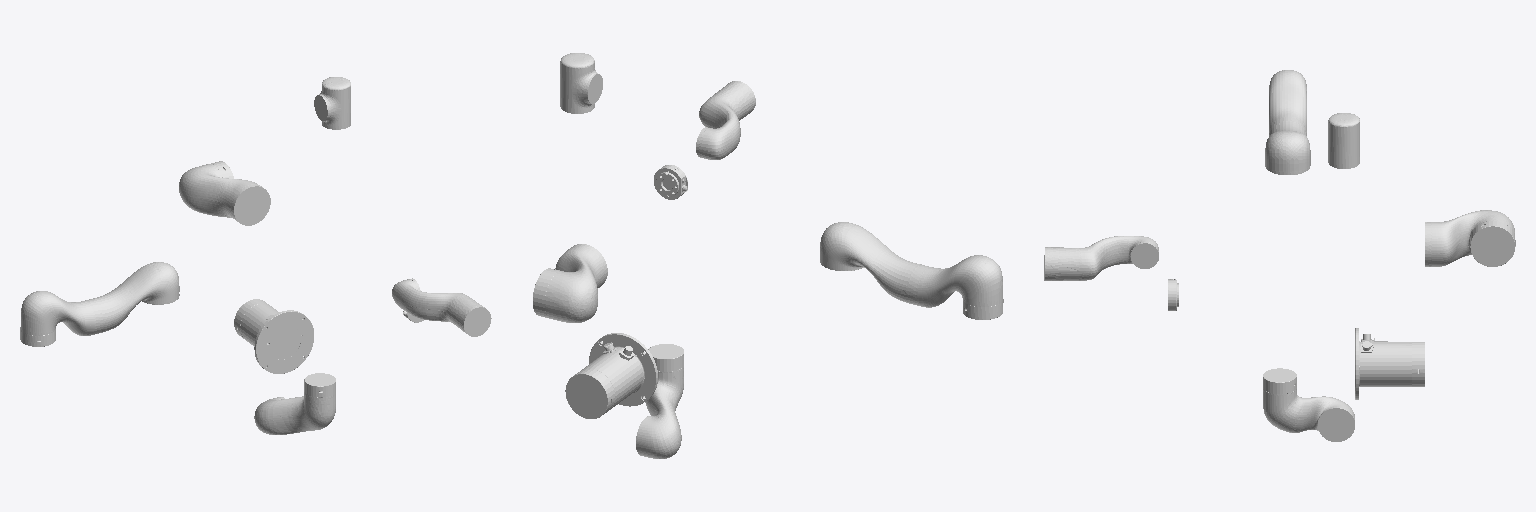
robot.urdf — uf850:
<robot name="uf850">
  <link name="base_link">
    <visual>
      <origin xyz="0 0 0" rpy="0 0 0"/>
      <geometry>
        <mesh filename="meshes/link_base.stl" scale="1.0 1.0 1.0"/>
      </geometry>
      <material name="LightGrey">
        <color rgba="0.9 0.9 0.9 1.0"/>
      </material>
    </visual>
    <inertial>
      <mass value="4.0"/>
      <origin rpy="0 0 0" xyz="0.0 0.0 0.0"/>
      <inertia ixx="0.00443333156" ixy="0.0" ixz="0.0" iyy="0.00443333156" iyz="0.0" izz="0.0072"/>
    </inertial>
  </link>

  <link name="link1">
    <visual>
      <origin xyz="0 0 0.2" rpy="0 0 0"/>
      <geometry>
        <mesh filename="meshes/link1.stl" scale="1.0 1.0 1.0"/>
      </geometry>
      <material name="LightGrey">
        <color rgba="0.9 0.9 0.9 1.0"/>
      </material>
    </visual>
    <inertial>
      <mass value="3.7"/>
      <origin rpy="0 0 0" xyz="0.0 0.0 0.0"/>
      <inertia ixx="0.010267495893" ixy="0.0" ixz="0.0" iyy="0.010267495893" iyz="0.0" izz="0.00666"/>
    </inertial>
  </link>

  <joint name="base_to_link1" type="revolute">
    <axis xyz="0 0 1"/>
    <parent link="base_link"/>
    <child link="link1"/>
    <origin xyz="0 0 0.15" rpy="0 0 0"/>
    <limit effort="150.0" lower="-6.28318530718" upper="6.28318530718" velocity="3.15"/>
    <dynamics damping="0.0" friction="0.0"/>
  </joint>

  <link name="link2">
    <visual>
      <origin xyz="0 0 0" rpy="0 -1.57 1.57"/>
      <geometry>
        <mesh filename="meshes/link2.stl" scale="1.0 1.0 1.0"/>
      </geometry>
      <material name="LightGrey">
        <color rgba="0.9 0.9 0.9 1.0"/>
      </material>
    </visual>
    <inertial>
      <mass value="8.393"/>
      <origin rpy="0 0 0" xyz="0.0 0.0 0.28"/>
      <inertia ixx="0.22689067591" ixy="0.0" ixz="0.0" iyy="0.22689067591" iyz="0.0" izz="0.0151074"/>
    </inertial>
  </link>

  <joint name="link1_to_link2" type="revolute">
    <parent link="link1"/>
    <child link="link2"/>
    <origin xyz="0 0 0.2" rpy="0 0 0"/>
    <axis xyz="0 1 0"/>
    <limit effort="150.0" lower="-6.28318530718" upper="6.28318530718" velocity="3.15"/>
    <dynamics damping="0.0" friction="0.0"/>
  </joint>

  <link name="link3">
    <visual>
      <origin xyz="0 0 0" rpy="0 0 -1.57"/>
      <geometry>
        <mesh filename="meshes/link3.stl" scale="1.0 1.0 1.0"/>
      </geometry>
      <material name="LightGrey">
        <color rgba="0.9 0.9 0.9 1.0"/>
      </material>
    </visual>
    <inertial>
      <mass value="2.275"/>
      <origin rpy="0 0 0" xyz="0.0 0.0 0.25"/>
      <inertia ixx="0.049443313556" ixy="0.0" ixz="0.0" iyy="0.049443313556" iyz="0.0" izz="0.004095"/>
    </inertial>
  </link>

  <joint name="link2_to_link3" type="revolute">
    <axis xyz="0 0 1"/>
    <parent link="link2"/>
    <child link="link3"/>
    <origin xyz="0 0 0.39" rpy="1.57 1.57 3.14"/>
    <limit effort="150.0" lower="-3.14159265359" upper="3.14159265359" velocity="3.15"/>
    <dynamics damping="0.0" friction="0.0"/>
  </joint>

  <link name="link4">
    <visual>
      <origin xyz="0.3 0 0" rpy="1.57 -1.57 1.57"/>
      <geometry>
        <mesh filename="meshes/link4.stl" scale="1.0 1.0 1.0"/>
      </geometry>
      <material name="LightGrey">
        <color rgba="0.9 0.9 0.9 1.0"/>
      </material>
    </visual>
    <inertial>
      <mass value="1.219"/>
      <origin rpy="0 0 0" xyz="0.0 0.0 0.0"/>
      <inertia ixx="0.111172755531" ixy="0.0" ixz="0.0" iyy="0.111172755531" iyz="0.0" izz="0.21942"/>
    </inertial>
  </link>

  <joint name="link3_to_link4" type="revolute">
    <axis xyz="1 0 0"/>
    <parent link="link3"/>
    <child link="link4"/>
    <origin xyz="0.1 -0.15 0" rpy="1.57 0 0"/>
    <limit effort="28.0" lower="-6.28318530718" upper="6.28318530718" velocity="3.2"/>
    <dynamics damping="0.0" friction="0.0"/>
  </joint>

  <link name="link5">
    <visual>
      <origin xyz="0 0.1 0" rpy="1.57 1.57 3.14"/>
      <geometry>
        <mesh filename="meshes/link5.stl" scale="1.0 1.0 1.0"/>
      </geometry>
      <material name="LightGrey">
        <color rgba="0.9 0.9 0.9 1.0"/>
      </material>
    </visual>
    <inertial>
      <mass value="1.219"/>
      <origin rpy="0 0 0" xyz="0.0 0.0 0.0"/>
      <inertia ixx="0.111172755531" ixy="0.0" ixz="0.0" iyy="0.111172755531" iyz="0.0" izz="0.21942"/>
    </inertial>
  </link>

  <joint name="link4_to_link5" type="revolute">
    <axis xyz="0 1 0"/>
    <parent link="link4"/>
    <child link="link5"/>
    <origin xyz="0.3 0.1 0" rpy="3.14 0 0"/>
    <limit effort="28.0" lower="-6.28318530718" upper="6.28318530718" velocity="3.2"/>
    <dynamics damping="0.0" friction="0.0"/>
  </joint>

  <link name="link6">
    <visual>
      <origin xyz="0 0 0" rpy="0 0 0"/>
      <geometry>
        <mesh filename="meshes/link6.stl" scale="1.0 1.0 1.0"/>
      </geometry>
      <material name="LightGrey">
        <color rgba="0.9 0.9 0.9 1.0"/>
      </material>
    </visual>
    <inertial>
      <mass value="0.1879"/>
      <origin rpy="0 0 0" xyz="0.0 0.0 0.0"/>
      <inertia ixx="0.0171364731454" ixy="0.0" ixz="0.0" iyy="0.0171364731454" iyz="0.0" izz="0.033822"/>
    </inertial>
  </link>

  <joint name="link5_to_link6" type="revolute">
    <axis xyz="0 0 1"/>
    <parent link="link5"/>
    <child link="link6"/>
    <origin xyz="0.0895 0.1 0" rpy="0 1.57 0"/>
    <limit effort="28.0" lower="-6.28318530718" upper="6.28318530718" velocity="3.2"/>
    <dynamics damping="0.0" friction="0.0"/>
  </joint>

  <link name="ee_link">
    <!-- <visual>
    <geometry>
      <box size="0.05 0.05 0.05"/>
    </geometry>
    <material name="blue">
      <color rgba="0.1 0.1 0.8 1"/>
    </material>
  </visual> -->
    <inertial>
      <mass value="0.01"/>
      <inertia ixx="0" ixy="0" ixz="0" iyy="0" iyz="0" izz="0"/>
    </inertial>
  </link>

  <joint name="ee_fixed_joint" type="fixed">
    <parent link="link6"/>
    <child link="ee_link"/>
    <origin xyz="0 0 0" rpy="0 0 0"/>
  </joint>

  <link name="tool_tip">
    <inertial>
      <mass value="0.0"/>
      <origin rpy="0 0 0" xyz="0.0 0.0 0.0"/>
      <inertia ixx="0.0" ixy="0.0" ixz="0.0" iyy="0.0" iyz="0.0" izz="0.0"/>
    </inertial>
    <!-- <visual>
      <geometry>
        <box size="0.01 0.01 0.01"/>
      </geometry>
      <material name="DarkGrey"/>
      <origin rpy="0 0 0" xyz="0 0 0"/>
    </visual> -->
  </link>
  <joint name="tool0_fixed_joint-tool_tip" type="fixed">
    <origin rpy="0 0 0" xyz="0 0 0.11"/>
    <parent link="ee_link"/>
    <child link="tool_tip"/>
  </joint>

</robot>

--- Facts derived from the render (not from the file) ---
Views: 3 orthographic renders of the robot side by side, from view 1: azimuth 30°, elevation 25°; view 2: azimuth 150°, elevation 25°; view 3: azimuth 270°, elevation 25°.
Robot: uf850 — 9 links, 8 joints (6 revolute, 2 fixed); root link base_link; default pose: every joint at zero.
Visible links, largest first — view 1: link2, base_link, link1, link3, link4, link5; view 2: link2, base_link, link1, link3, link4, link5, link6; view 3: link1, link3, link2, link4, base_link, link5.
Boxes of the visible links, x1,y1,x2,y2 form: link2: (20, 262, 179, 346); base_link: (234, 299, 313, 373); link1: (179, 161, 270, 225); link3: (254, 373, 335, 434); link4: (392, 278, 491, 336); link5: (314, 77, 350, 129); link2: (820, 222, 1003, 319); base_link: (565, 333, 657, 418); link1: (533, 244, 607, 322); link3: (636, 344, 683, 458); link4: (696, 81, 755, 159); link5: (560, 53, 602, 113); link6: (654, 165, 687, 199); link1: (1425, 210, 1515, 266); link3: (1263, 368, 1354, 441); link2: (1265, 70, 1310, 174); link4: (1044, 236, 1158, 280); base_link: (1355, 328, 1424, 399); link5: (1328, 113, 1359, 168).
Bounding box of the posed robot: 1.15 × 1.25 × 1.03 m (x, y, z).
7 mesh visuals loaded from 7 distinct referenced files (7 binary STL).
